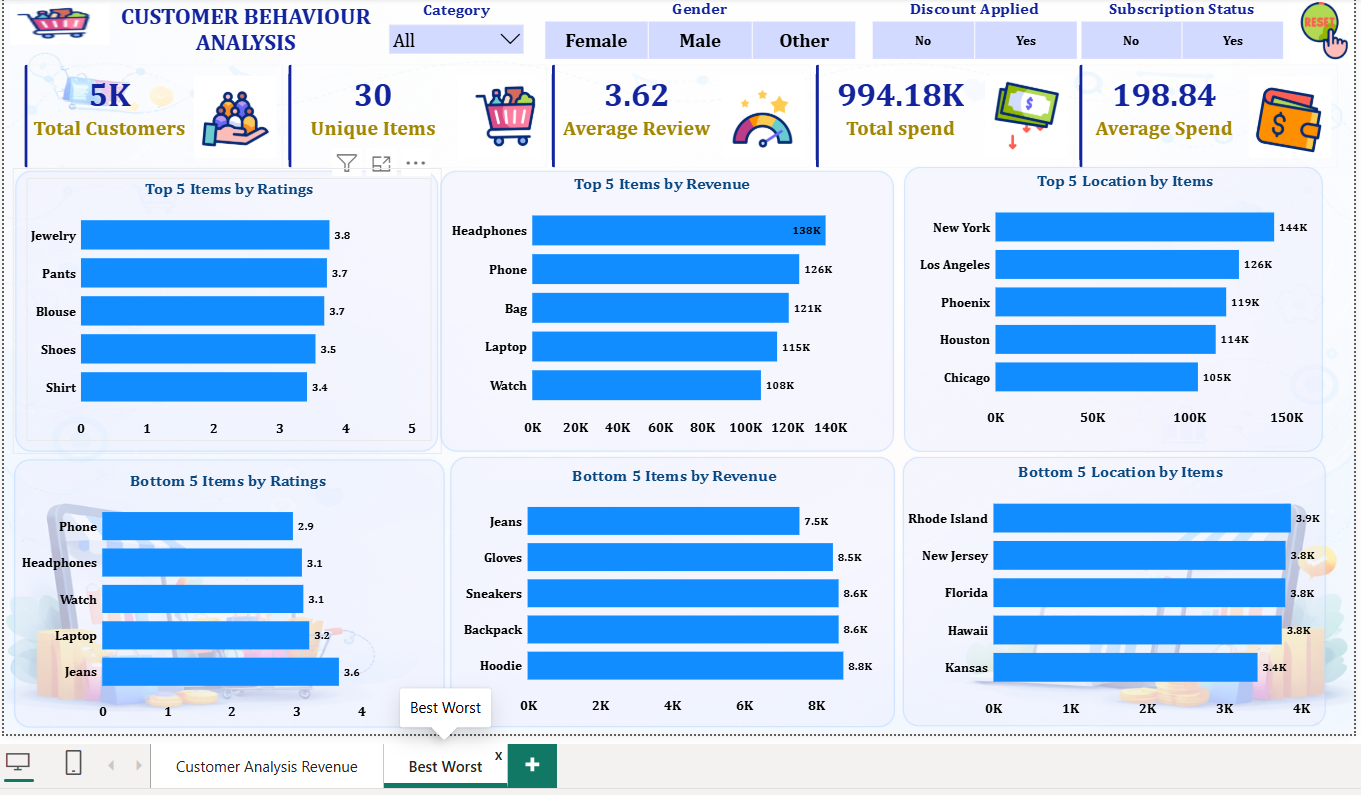

The dashboard page shown, as its layout file describes it:
{"tool":"powerbi","page":{"name":"Best Worst","canvas":[2200,1200],"ordinal":1},"visuals":[{"type":"cardVisual","fields":{"Data":["Measure Table.Total Customers","Measure Table.Unique Items","Measure Table.Average Review","Measure Table.Total spend","Measure Table.Average Spend"]},"box":[16.7,91.7,2179.2,202.1],"z":0},{"type":"textbox","box":[170.8,2.1,445.8,106.2],"z":1000},{"type":"group","id":"g1","title":"Group 1","box":[14.6,277.1,697.8,466.7],"z":1000,"group":"g3"},{"type":"shape","box":[14.6,277.1,697.8,466.7],"z":1000,"group":"g1"},{"type":"shape","box":[12.5,747.9,710.4,445.8],"z":1000,"group":"g2"},{"type":"actionButton","box":[10,10,161.4,65.7],"z":2000},{"type":"shape","box":[707.1,276.9,747.9,466.7],"z":2000,"group":"g4"},{"type":"slicer","title":"Category","fields":{"Values":["shopping_data.category"]},"box":[616.7,2.1,239.6,106.2],"z":3000},{"type":"shape","box":[722.9,744.7,733.3,449],"z":3000,"group":"g7"},{"type":"slicer","title":"Gender","fields":{"Values":["shopping_data.gender"]},"box":[856.2,0,556.2,106.2],"z":4000},{"type":"shape","box":[1462.5,270.8,691.1,473.3],"z":4000,"group":"g5"},{"type":"slicer","title":"Discount Applied","fields":{"Values":["shopping_data.discount_applied"]},"box":[1389.6,0,383.3,106.2],"z":5000},{"type":"shape","box":[1461.6,744.2,697.9,447.9],"z":5000,"group":"g8"},{"type":"slicer","title":"Subscription Status","fields":{"Values":["shopping_data.discount_applied"]},"box":[1731.2,0,379.2,106.2],"z":6000},{"type":"group","id":"g2","title":"Group 1","box":[12.5,747.9,710.4,445.8],"z":6000,"group":"g6"},{"type":"group","id":"g3","title":"Group 2","box":[14.6,277.1,697.9,466.7],"z":7000},{"type":"clusteredBarChart","title":"Top 5 Items by Ratings","fields":{"Category":["shopping_data.item_purchased"],"Y":["Avg(shopping_data.review_rating)"]},"box":[36.1,293.1,660.4,429.2],"z":7000,"group":"g3"},{"type":"group","id":"g4","title":"Group 3","box":[707.1,276.9,747.9,466.7],"z":8000},{"type":"clusteredBarChart","title":"Bottom 5 Items by Ratings","fields":{"Category":["shopping_data.item_purchased"],"Y":["Avg(shopping_data.review_rating)"]},"box":[22.9,769.4,685.3,414.6],"z":8000,"group":"g6"},{"type":"group","id":"g5","title":"Group 4","box":[1462.5,270.8,708.3,472.9],"z":9000},{"type":"clusteredBarChart","title":"Top 5 Items by Revenue","fields":{"Category":["shopping_data.item_purchased"],"Y":["Sum(shopping_data.purchase_amount)"]},"box":[723.5,286,697.8,435.6],"z":9000,"group":"g4"},{"type":"group","id":"g6","title":"Group 5","box":[12.5,747.9,710.4,445.8],"z":10000},{"type":"clusteredBarChart","title":"Bottom 5 Items by Revenue","fields":{"Category":["shopping_data.item_purchased"],"Y":["Sum(shopping_data.purchase_amount)"]},"box":[743.9,764,697.9,412.5],"z":10000,"group":"g7"},{"type":"clusteredBarChart","title":"Top 5 Location by Items","fields":{"Category":["shopping_data.location"],"Y":["Sum(shopping_data.purchase_amount)"]},"box":[1484.7,281.9,684.4,424.4],"z":11000,"group":"g5"},{"type":"group","id":"g7","title":"Group 6","box":[722.9,744.7,733.3,449],"z":11000},{"type":"group","id":"g8","title":"Group 7","box":[1461.6,744.2,709.3,447.9],"z":12000},{"type":"clusteredBarChart","title":"Bottom 5 Location by Items","fields":{"Y":["Sum(shopping_data.purchase_amount)"],"Category":["shopping_data.location"]},"box":[1468.8,756.2,702.1,422.9],"z":12000,"group":"g8"},{"type":"actionButton","box":[2095.8,0,100,106.2],"z":13000}]}

Visuals, with their boxes on the page's 2200x1200 design canvas (x1, y1, x2, y2). These are canvas units, not pixel positions in the 1361x795 screenshot, which may show the page scaled, cropped or inside an application window:
cardVisual - Measure Table.Total Customers x Measure Table.Unique Items: 17, 92, 2196, 294
textbox: 171, 2, 617, 108
"Group 1" group: 15, 277, 712, 744
shape: 15, 277, 712, 744
shape: 12, 748, 723, 1194
actionButton: 10, 10, 171, 76
shape: 707, 277, 1455, 744
"Category" slicer: 617, 2, 856, 108
shape: 723, 745, 1456, 1194
"Gender" slicer: 856, 0, 1412, 106
shape: 1462, 271, 2154, 744
"Discount Applied" slicer: 1390, 0, 1773, 106
shape: 1462, 744, 2160, 1192
"Subscription Status" slicer: 1731, 0, 2110, 106
"Group 1" group: 12, 748, 723, 1194
"Group 2" group: 15, 277, 712, 744
"Top 5 Items by Ratings" clusteredBarChart: 36, 293, 696, 722
"Group 3" group: 707, 277, 1455, 744
"Bottom 5 Items by Ratings" clusteredBarChart: 23, 769, 708, 1184
"Group 4" group: 1462, 271, 2171, 744
"Top 5 Items by Revenue" clusteredBarChart: 724, 286, 1421, 722
"Group 5" group: 12, 748, 723, 1194
"Bottom 5 Items by Revenue" clusteredBarChart: 744, 764, 1442, 1176
"Top 5 Location by Items" clusteredBarChart: 1485, 282, 2169, 706
"Group 6" group: 723, 745, 1456, 1194
"Group 7" group: 1462, 744, 2171, 1192
"Bottom 5 Location by Items" clusteredBarChart: 1469, 756, 2171, 1179
actionButton: 2096, 0, 2196, 106
